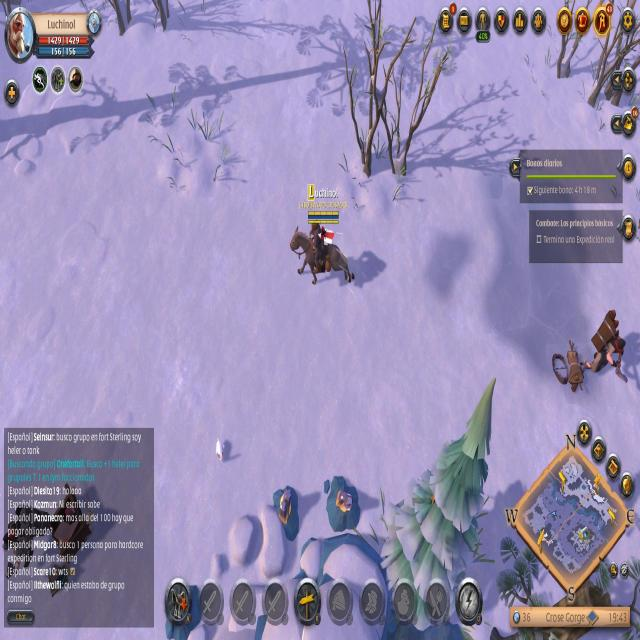piedra_cobre: (324, 478, 360, 534), (272, 486, 298, 540)
